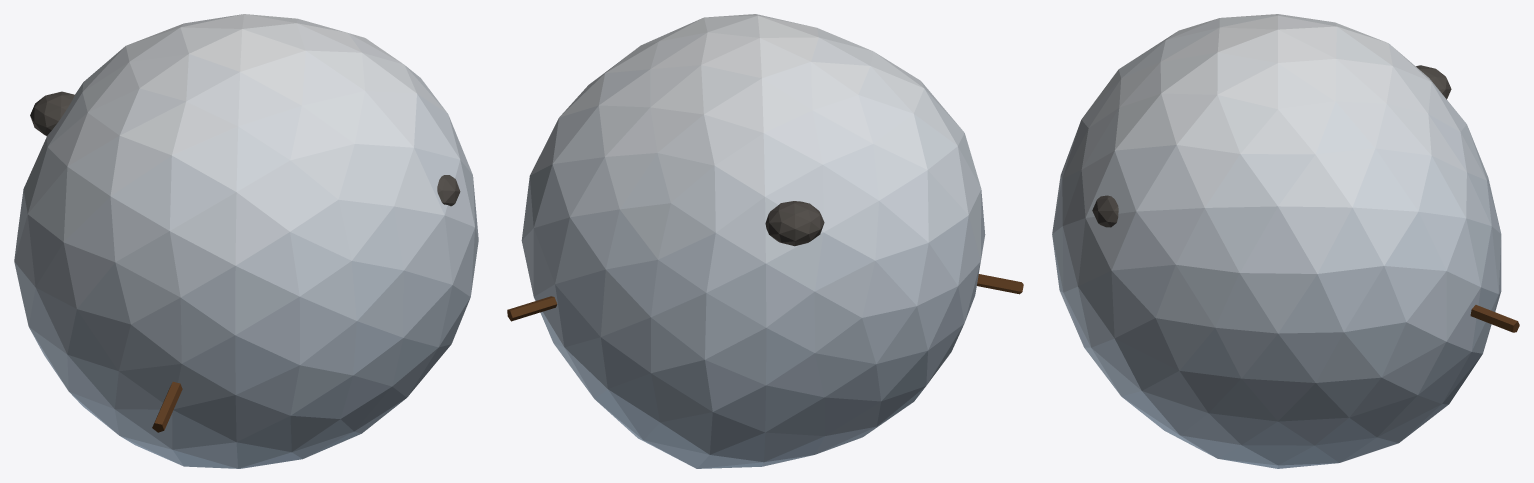
The model's file is hazard-snowball.glb.
The picture shows the model from 3 angles, left to right: view 1: azimuth 30°, elevation 25°; view 2: azimuth 150°, elevation 25°; view 3: azimuth 270°, elevation 25°; orthographic projection. The views are drawn at different scales.
Visible parts, largest first — view 1: hazard-snowball; view 2: hazard-snowball; view 3: hazard-snowball.
Part boxes in pixels (x1,y1,x2,y2): hazard-snowball: (14, 14, 478, 468); hazard-snowball: (507, 14, 1023, 468); hazard-snowball: (1052, 14, 1519, 468).
Size of the model in its own units: 2.12 by 2.08 by 2.11.
